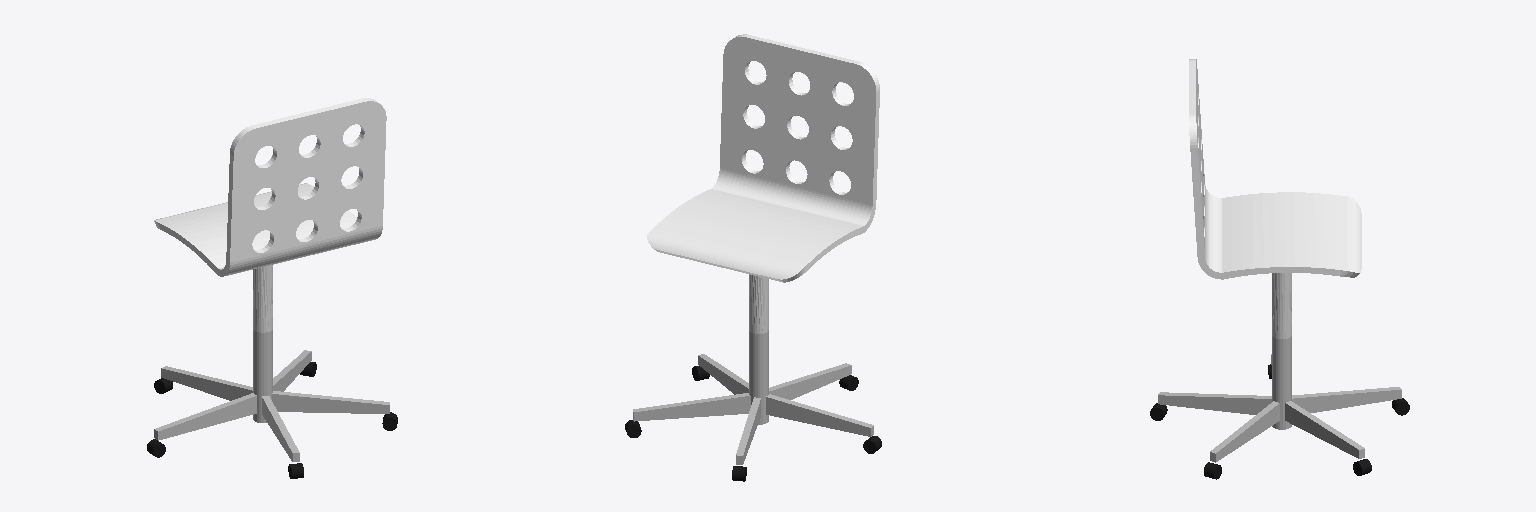
The picture shows the model from 3 angles: view 1: azimuth 30°, elevation 25°; view 2: azimuth 150°, elevation 25°; view 3: azimuth 270°, elevation 25°; orthographic projection.
Visible parts, largest first — view 1: Mesh1 Group2 Group1 Model, Mesh12 Group3 ske3F1 Group1 Model, Mesh5 Group5 Group3 ske3F1 Group1 Model, Mesh7 Group6 Group3 ske3F1 Group1 Model, Mesh3 Group4 Group3 ske3F1 Group1 Model, Mesh9 Group7 Group3 ske3F1 Group1 Model, Mesh11 Group8 Group3 ske3F1 Group1 Model; view 2: Mesh1 Group2 Group1 Model, Mesh12 Group3 ske3F1 Group1 Model, Mesh11 Group8 Group3 ske3F1 Group1 Model, Mesh7 Group6 Group3 ske3F1 Group1 Model, Mesh9 Group7 Group3 ske3F1 Group1 Model, Mesh5 Group5 Group3 ske3F1 Group1 Model, Mesh3 Group4 Group3 ske3F1 Group1 Model; view 3: Mesh1 Group2 Group1 Model, Mesh12 Group3 ske3F1 Group1 Model, Mesh9 Group7 Group3 ske3F1 Group1 Model, Mesh3 Group4 Group3 ske3F1 Group1 Model, Mesh11 Group8 Group3 ske3F1 Group1 Model, Mesh5 Group5 Group3 ske3F1 Group1 Model.
Part boxes in pixels (x1,y1,x2,y2): Mesh1 Group2 Group1 Model: (154,98,386,276); Mesh12 Group3 ske3F1 Group1 Model: (253,265,272,422); Mesh5 Group5 Group3 ske3F1 Group1 Model: (272,391,389,413); Mesh7 Group6 Group3 ske3F1 Group1 Model: (154,393,256,440); Mesh3 Group4 Group3 ske3F1 Group1 Model: (161,366,252,400); Mesh9 Group7 Group3 ske3F1 Group1 Model: (262,396,299,461); Mesh11 Group8 Group3 ske3F1 Group1 Model: (273,350,311,391); Mesh1 Group2 Group1 Model: (647,34,879,282); Mesh12 Group3 ske3F1 Group1 Model: (749,274,768,424); Mesh11 Group8 Group3 ske3F1 Group1 Model: (633,393,750,421); Mesh7 Group6 Group3 ske3F1 Group1 Model: (766,394,873,436); Mesh9 Group7 Group3 ske3F1 Group1 Model: (769,363,851,399); Mesh5 Group5 Group3 ske3F1 Group1 Model: (698,354,748,394); Mesh3 Group4 Group3 ske3F1 Group1 Model: (736,397,760,464); Mesh1 Group2 Group1 Model: (1189,59,1361,279); Mesh12 Group3 ske3F1 Group1 Model: (1272,273,1291,429); Mesh9 Group7 Group3 ske3F1 Group1 Model: (1158,392,1271,414); Mesh3 Group4 Group3 ske3F1 Group1 Model: (1292,387,1401,412); Mesh11 Group8 Group3 ske3F1 Group1 Model: (1285,401,1364,458); Mesh5 Group5 Group3 ske3F1 Group1 Model: (1210,401,1279,462).
Bounding box in the file's own units: 0.5328 × 0.8058 × 0.5504.